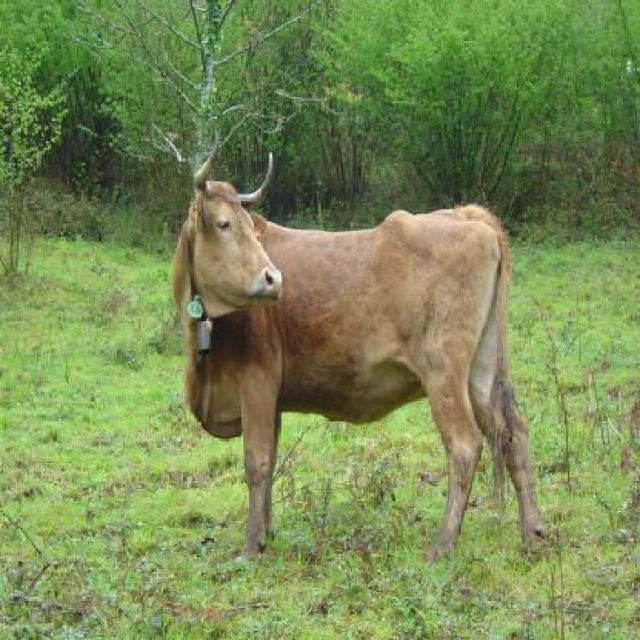Cow: (171, 142, 540, 562)
